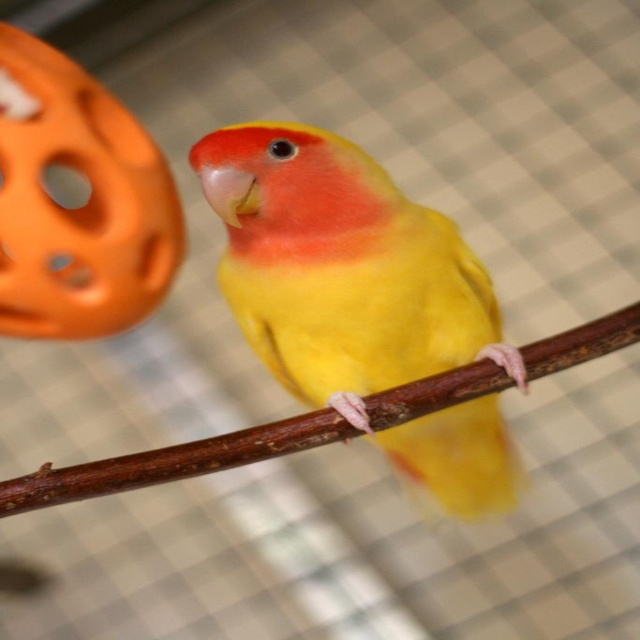Canary: (187, 119, 527, 522)
